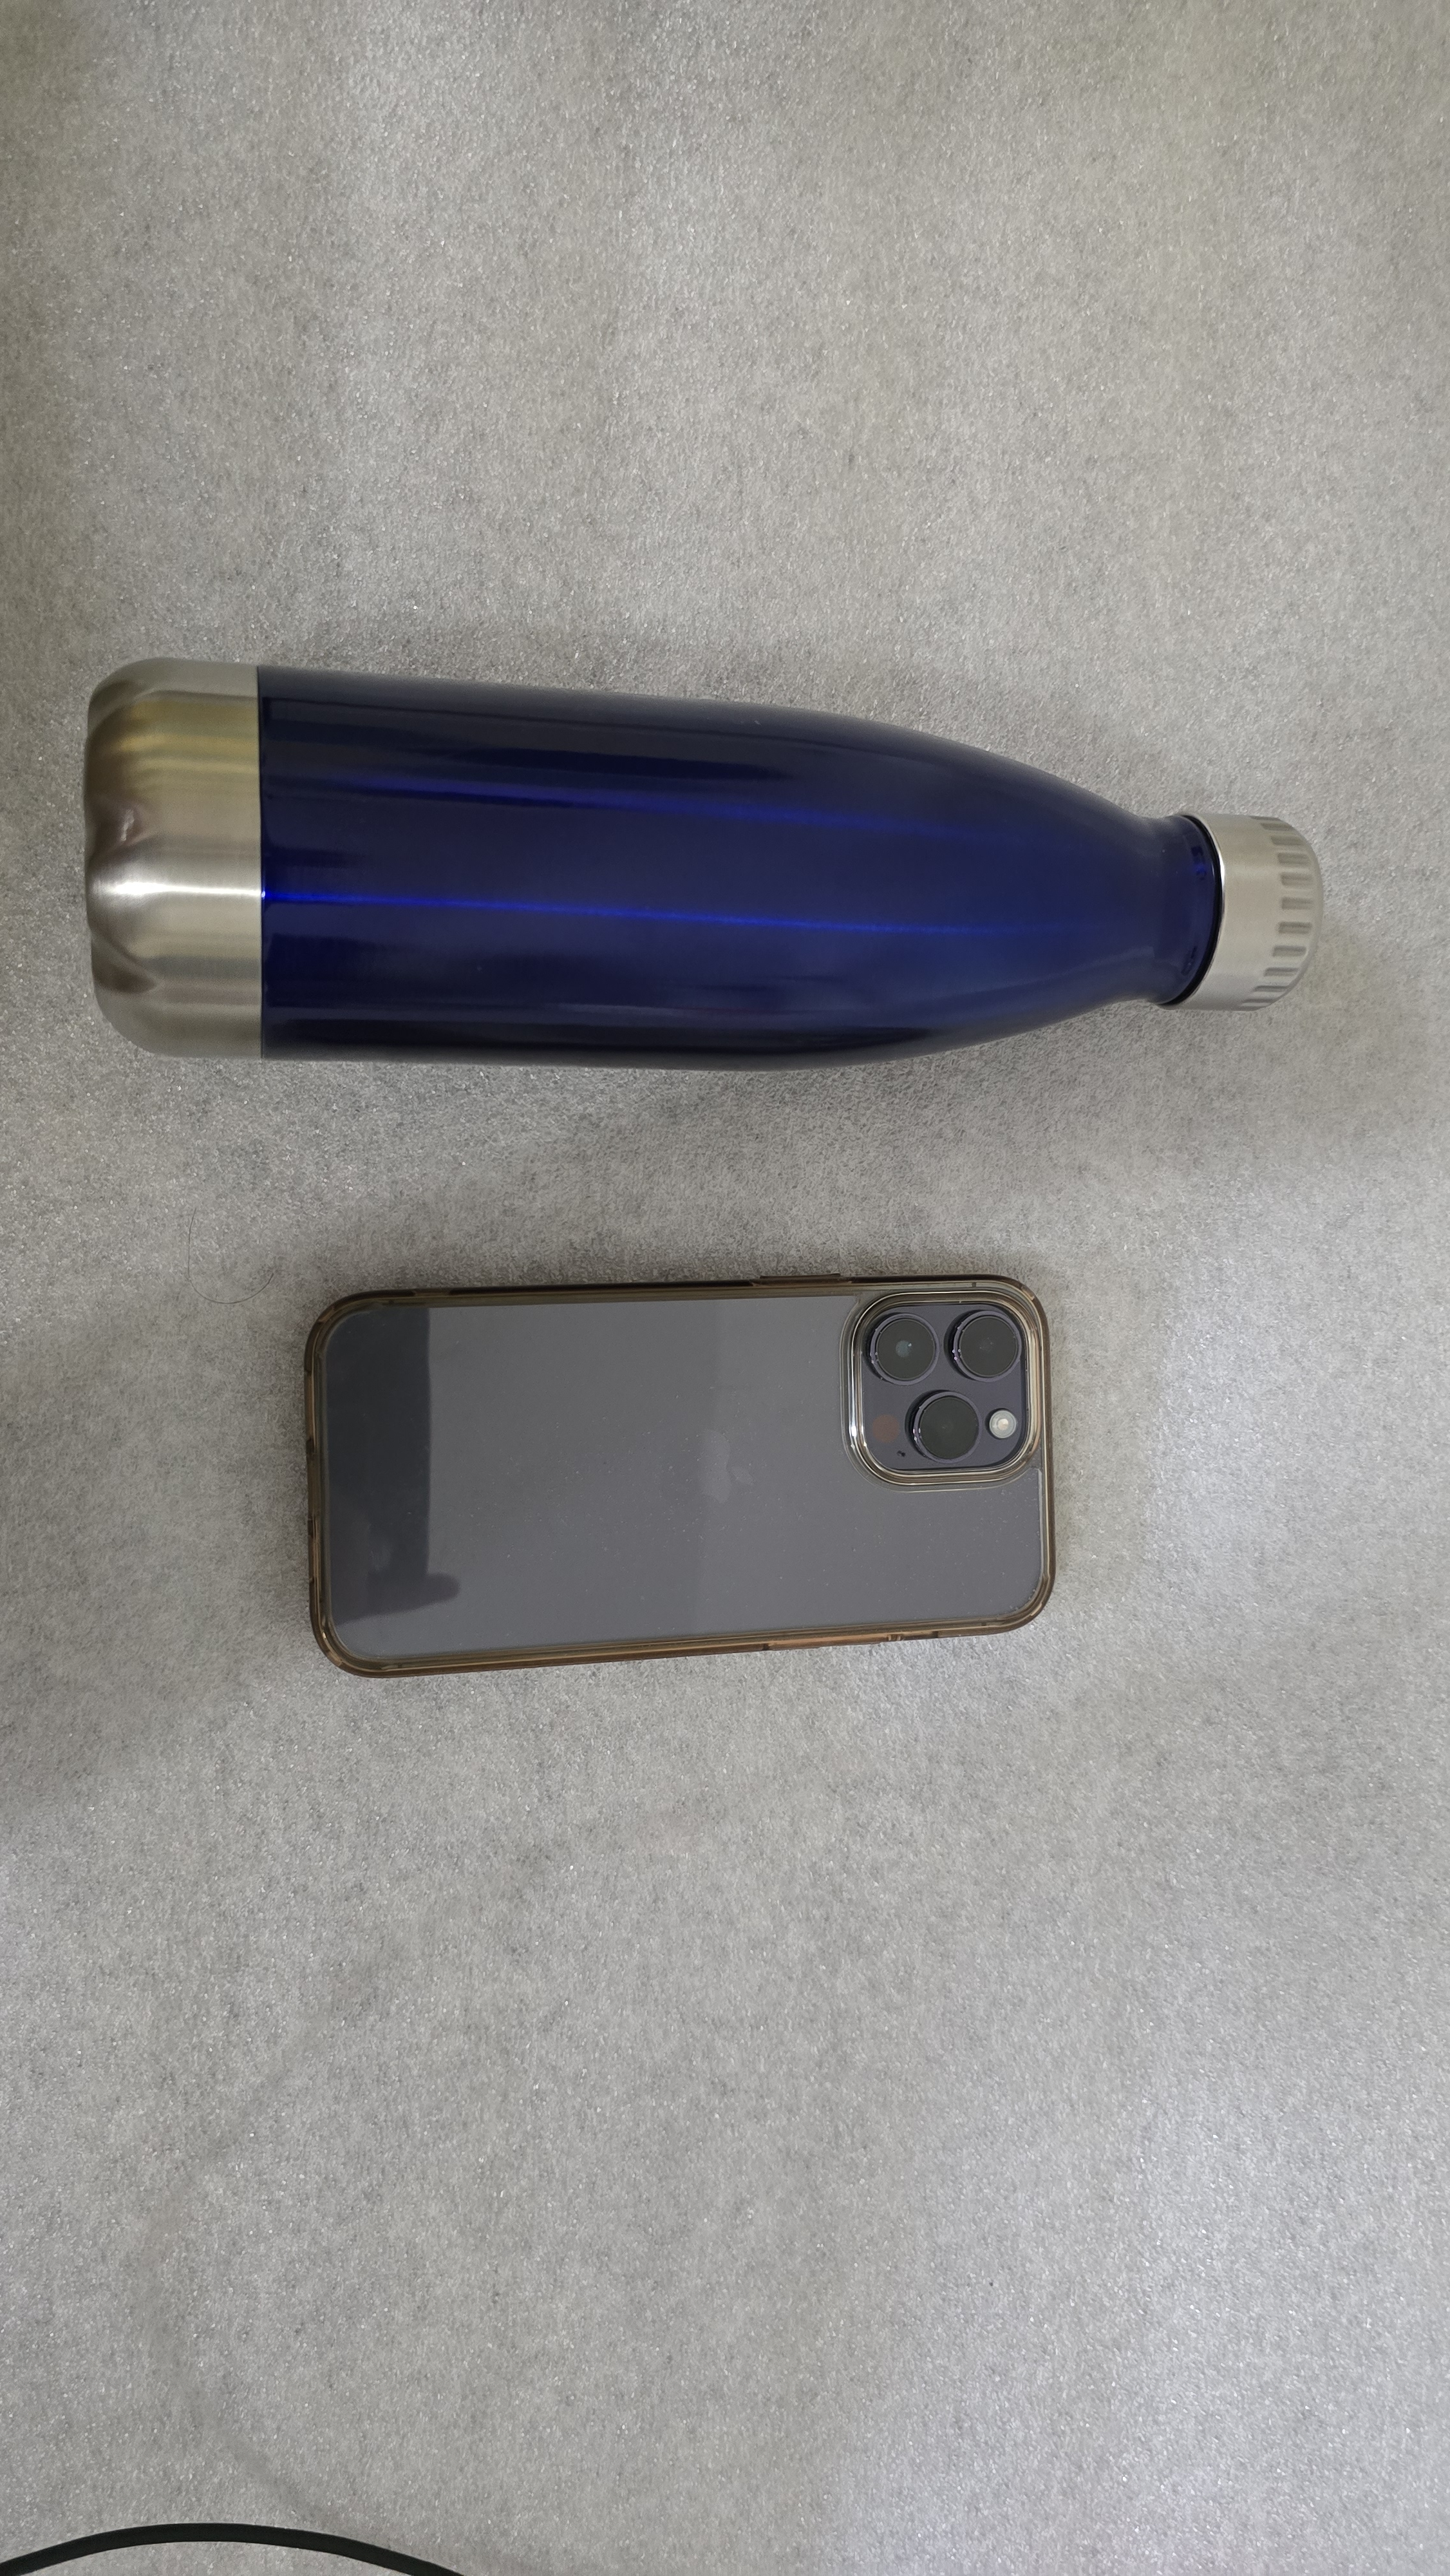bottle: (58, 628, 1360, 1122)
